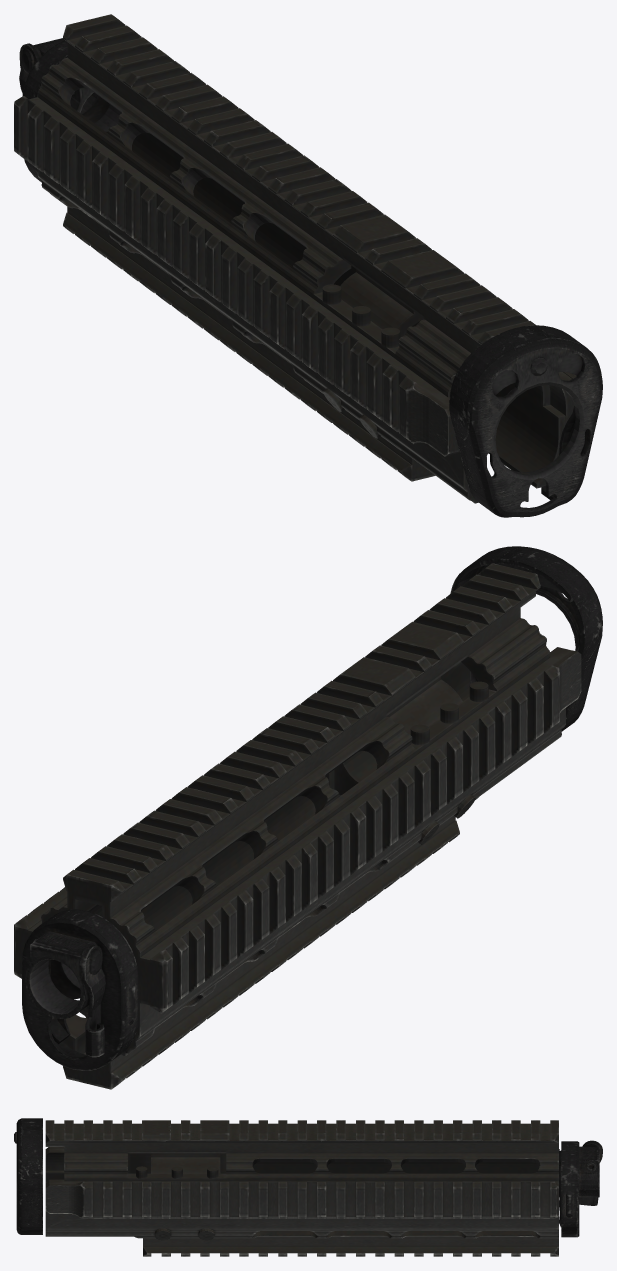
3 views of the same model, one above another, from view 1: azimuth 30°, elevation 25°; view 2: azimuth 150°, elevation 25°; view 3: azimuth 270°, elevation 25° (orthographic). The views are drawn at different scales.
Visible parts, largest first — view 1: TW_5e5699df2161e06ac158df6f_PZ_Import; view 2: TW_5e5699df2161e06ac158df6f_PZ_Import; view 3: TW_5e5699df2161e06ac158df6f_PZ_Import.
Part boxes in pixels (x1,y1,x2,y2): TW_5e5699df2161e06ac158df6f_PZ_Import: (14,14,602,517); TW_5e5699df2161e06ac158df6f_PZ_Import: (14,546,602,1089); TW_5e5699df2161e06ac158df6f_PZ_Import: (14,1118,602,1256).
Bounding box in the file's own units: 0.0318 × 0.1758 × 0.0416.
Materials: 1 (1 with a texture image).
